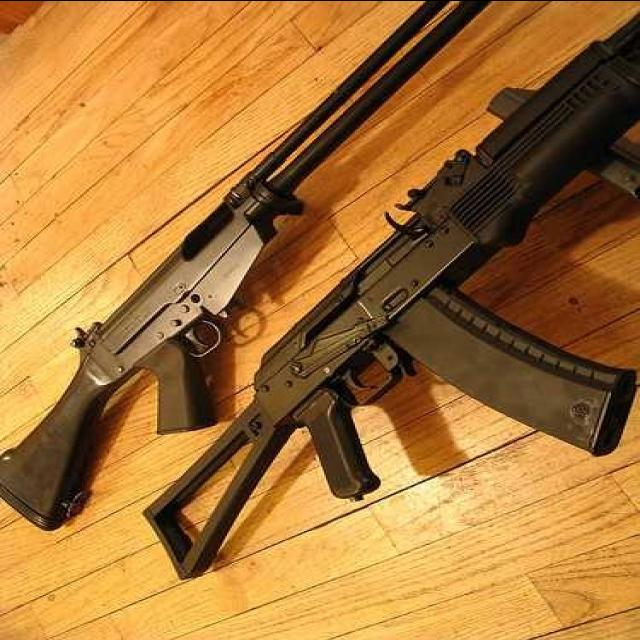heavyweapon: (117, 18, 640, 596), (3, 1, 483, 532)
